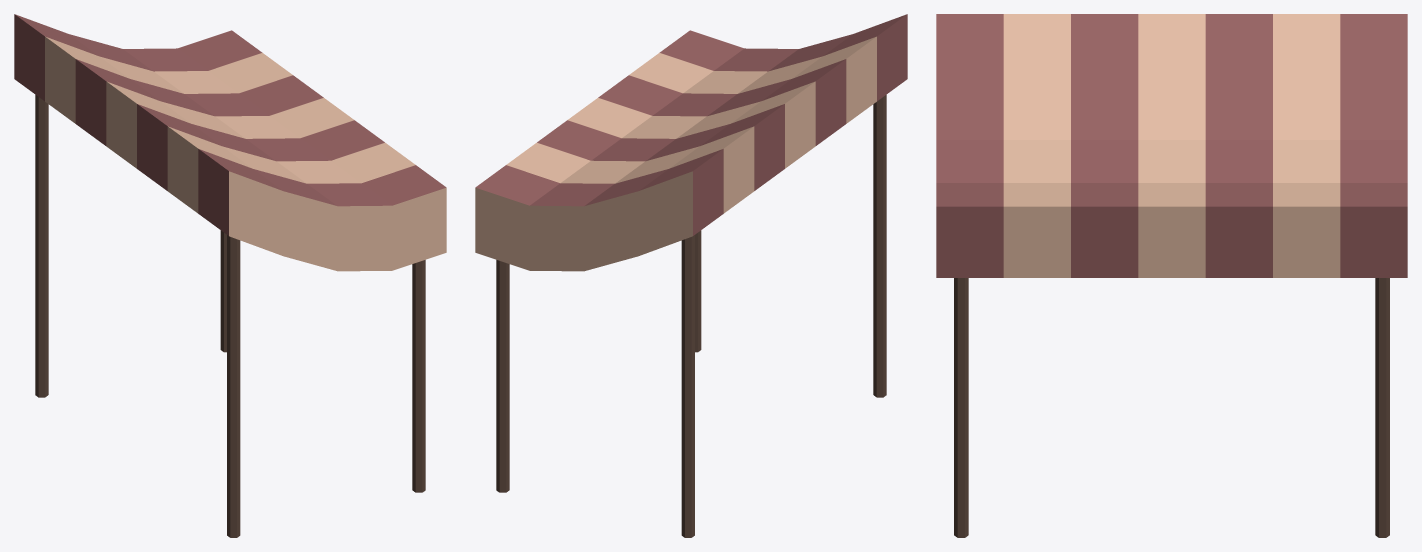
File: market.fbx
The picture shows the model from 3 angles, left to right: view 1: azimuth 30°, elevation 25°; view 2: azimuth 150°, elevation 25°; view 3: azimuth 270°, elevation 25°; orthographic projection. The views are drawn at different scales.
Parts seen in each view (by area): view 1: Plane, Cylinder; view 2: Plane, Cylinder; view 3: Plane, Cylinder.
Part boxes in pixels (x1,y1,x2,y2): Plane: (14,14,446,271); Cylinder: (35,95,425,537); Plane: (475,14,907,271); Cylinder: (496,95,886,537); Plane: (936,14,1407,277); Cylinder: (954,278,1389,537).
Size of the model in its own units: 639 by 1058 by 1093.
